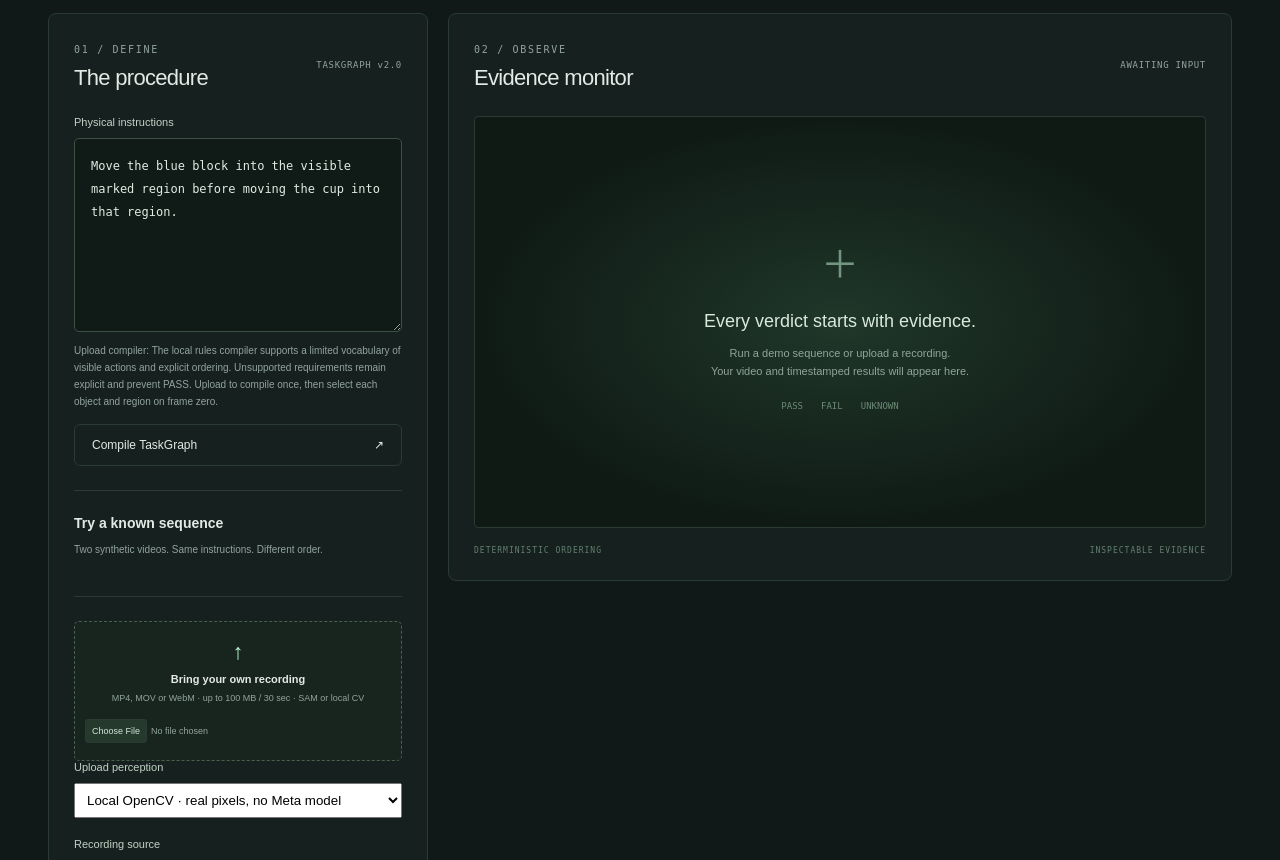
Test: renders semantic objects, predicate arguments, observability and final conditions
(page scrolled)
What coordinates should you click on to do the following:
click the button "Compile TaskGraph ↗"
I would click on:
 (145, 445)
Its box is [74, 424, 402, 466].
(page scrolled)
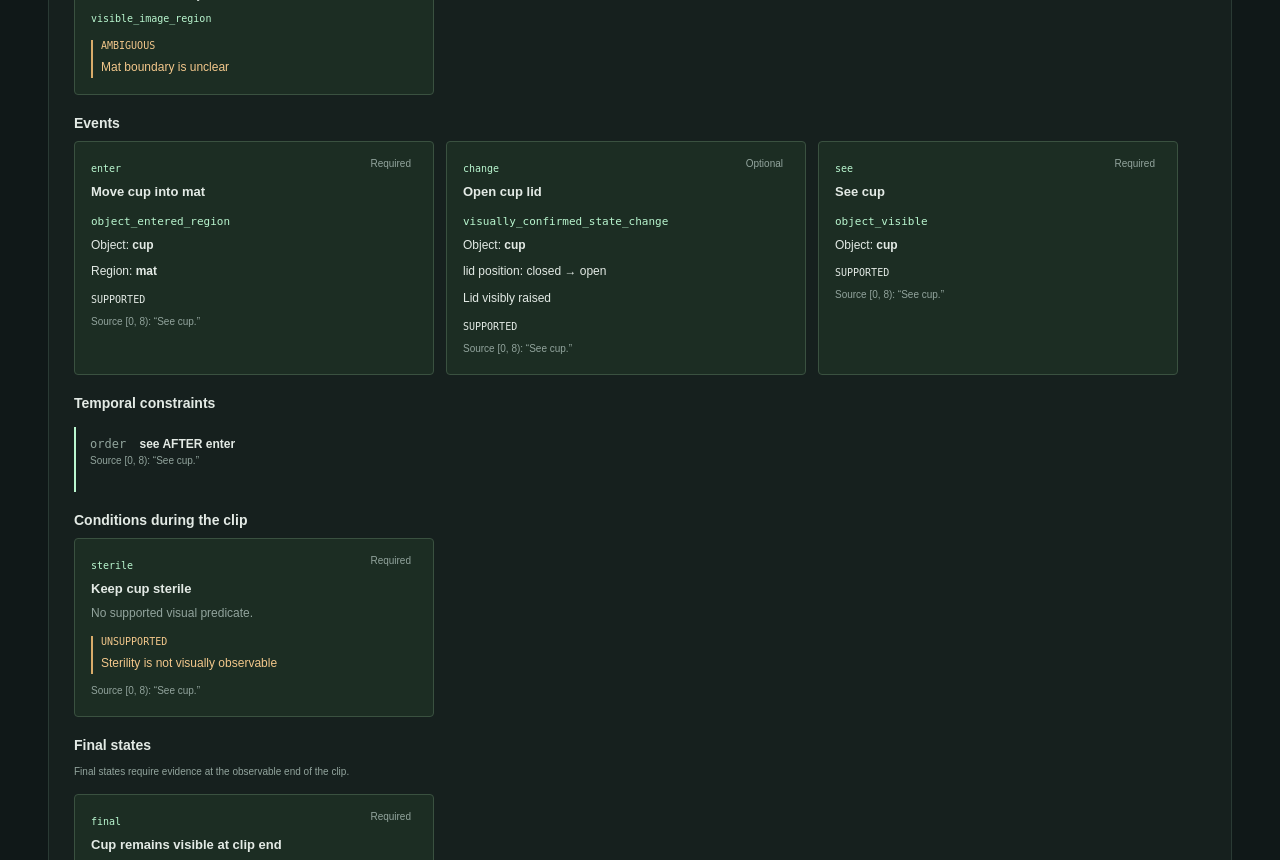
Now the text "Mat boundary is unclear" is shown, box [101, 60, 229, 74]
Now the text "object_entered_region" is shown, box [91, 215, 230, 228]
Now the text "lid position: closed → open" is shown, box [463, 264, 606, 278]
